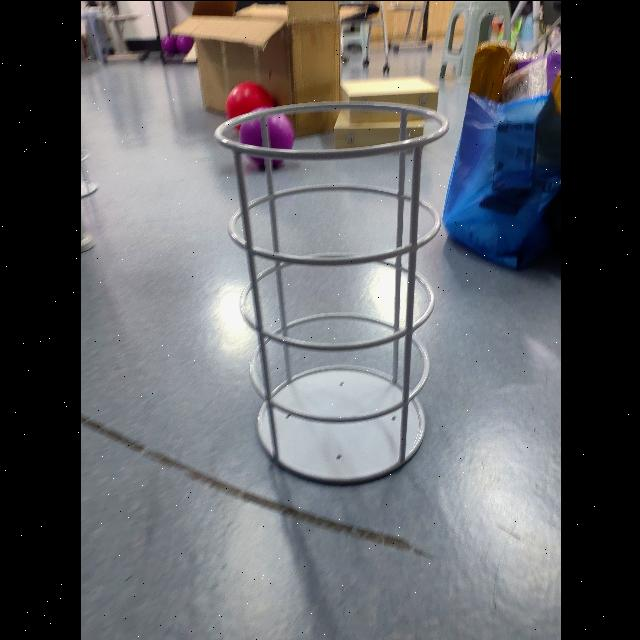S: (206, 98, 452, 490)
